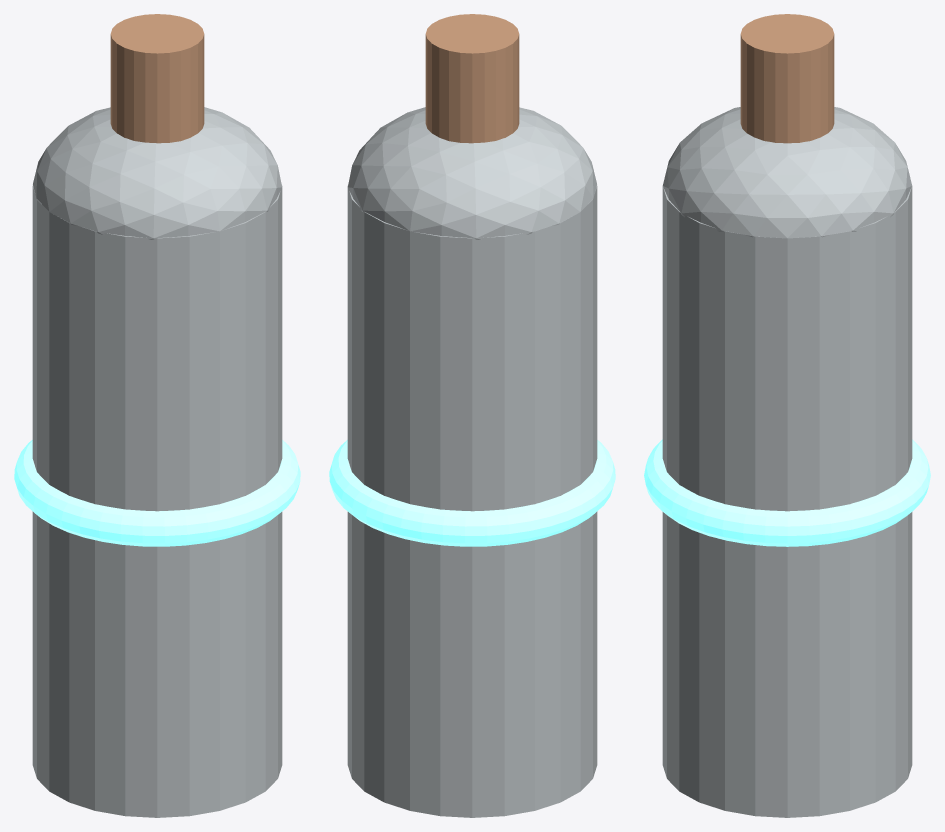
Rendered from oxygen_cylinder.glb.
3 views of the same model, side by side, from view 1: azimuth 30°, elevation 25°; view 2: azimuth 150°, elevation 25°; view 3: azimuth 270°, elevation 25° (orthographic).
Visible parts, largest first — view 1: ivory_0, ivory_1, copper_2, blue_3; view 2: ivory_0, ivory_1, copper_2, blue_3; view 3: ivory_0, ivory_1, copper_2, blue_3.
Part boxes in pixels (x1=…): ivory_0: x1=32, y1=184, x2=282, y2=817; ivory_1: x1=33, y1=107, x2=282, y2=239; copper_2: x1=110, y1=14, x2=204, y2=143; blue_3: x1=14, y1=440, x2=300, y2=546; ivory_0: x1=347, y1=184, x2=597, y2=817; ivory_1: x1=347, y1=107, x2=596, y2=239; copper_2: x1=425, y1=14, x2=519, y2=143; blue_3: x1=329, y1=440, x2=615, y2=546; ivory_0: x1=662, y1=186, x2=912, y2=817; ivory_1: x1=662, y1=107, x2=912, y2=238; copper_2: x1=740, y1=14, x2=834, y2=143; blue_3: x1=644, y1=439, x2=930, y2=546.
Bounding box in the file's own units: 0.368 × 1.04 × 0.368.
